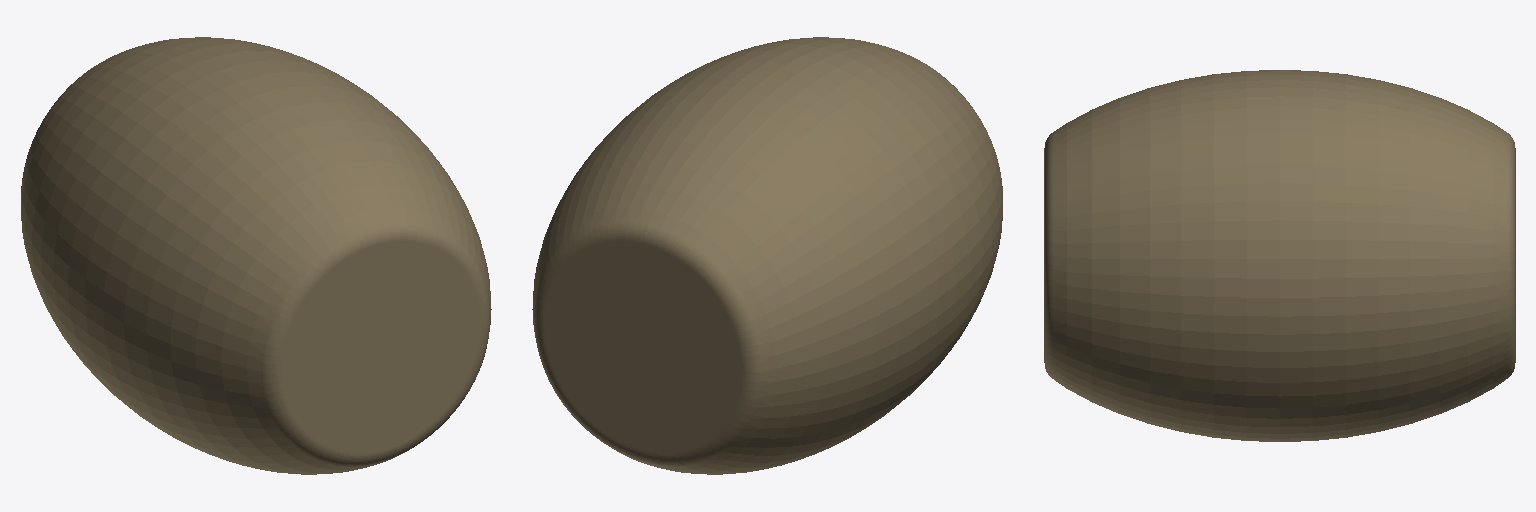
URDF robot description (Barrell):
<?xml version="1.0"?>
<robot name="Barrell">
  <link name="base_link">
    <visual>
      <origin xyz="0 0 0" rpy="0 0 0" />
      <geometry>
        <mesh filename="Barrell.obj"/>      
      </geometry>
      <material name="tan">
        <color rgba="0.55 0.5 0.4 1"/>
      </material>
    </visual>
    <collision>
      <origin xyz="0 0 0" rpy="0 0 0" />
      <geometry>
        <mesh filename="Barrell.obj"/>
      </geometry>
    </collision>
  </link>
</robot>

--- Render facts (derived) ---
The picture shows the robot from 3 angles, left to right: view 1: azimuth 30°, elevation 25°; view 2: azimuth 150°, elevation 25°; view 3: azimuth 270°, elevation 25°; orthographic projection.
Robot: Barrell — 1 links, 0 joints (none); root link base_link; default pose: every joint at zero.
Links seen in each view (by area): view 1: base_link; view 2: base_link; view 3: base_link.
Link boxes in pixels (x1,y1,x2,y2): base_link: (21,37,491,474); base_link: (532,37,1002,474); base_link: (1044,70,1515,441).
Size in the robot's own frame: 30.13 by 38.1 by 30.13 metres.
Meshes: 1 distinct files referenced, 1 mesh visuals loaded (1 OBJ).
